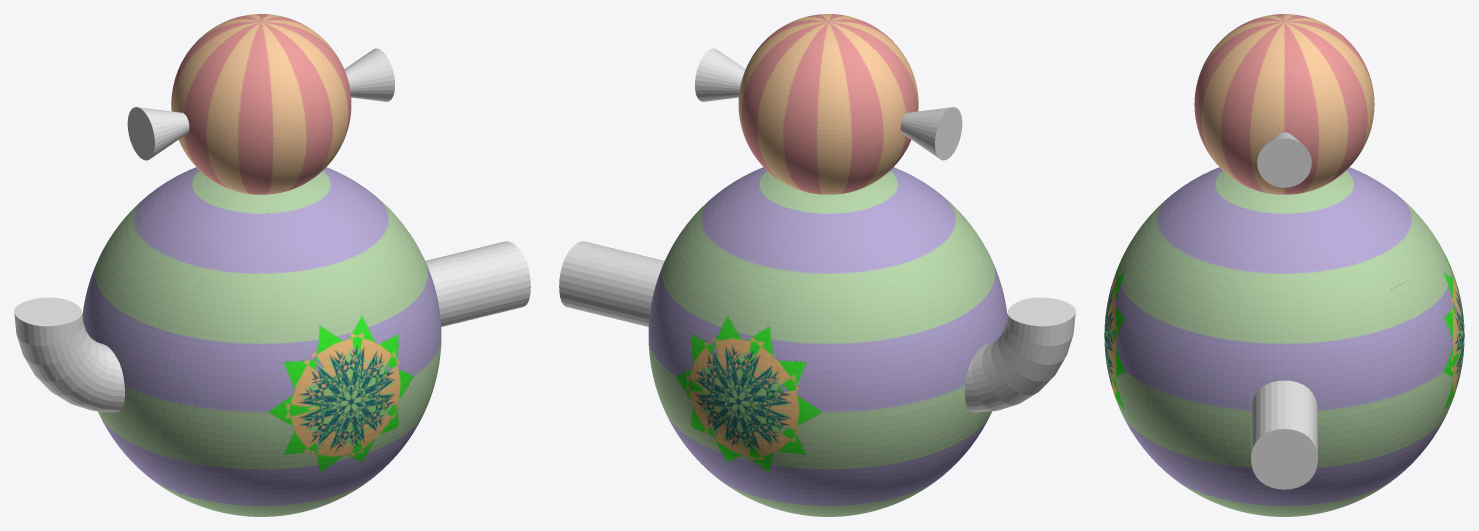
The model's file is BouncyStim2.fbx.
3 renders of one model, left to right at view 1: azimuth 30°, elevation 25°; view 2: azimuth 150°, elevation 25°; view 3: azimuth 270°, elevation 25°, orthographic.
Visible parts, largest first — view 1: Body, Arm.001, Arm, Ear, Ear.001; view 2: Body, Arm.001, Arm, Ear, Ear.001; view 3: Body, Arm, Ear.001.
Boxes of the visible parts, x1=… form: Body: x1=82, y1=14, x2=441, y2=516; Arm.001: x1=14, y1=297, x2=124, y2=412; Arm: x1=425, y1=241, x2=530, y2=326; Ear: x1=127, y1=107, x2=189, y2=160; Ear.001: x1=344, y1=48, x2=394, y2=101; Body: x1=648, y1=14, x2=1007, y2=516; Arm.001: x1=965, y1=297, x2=1075, y2=412; Arm: x1=559, y1=241, x2=664, y2=326; Ear: x1=900, y1=107, x2=962, y2=160; Ear.001: x1=695, y1=48, x2=745, y2=101; Body: x1=1104, y1=14, x2=1464, y2=516; Arm: x1=1251, y1=380, x2=1317, y2=489; Ear.001: x1=1257, y1=132, x2=1311, y2=187.
Size of the model in its own units: 78.31 by 72.41 by 49.36.
